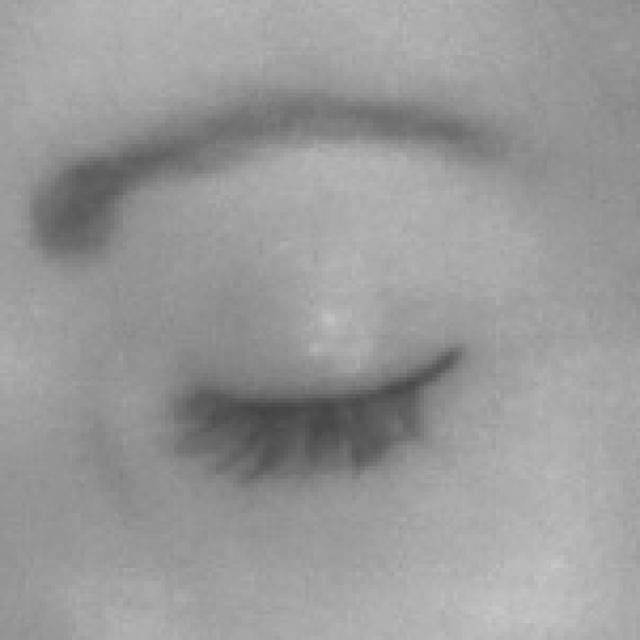close: (14, 21, 567, 603)
